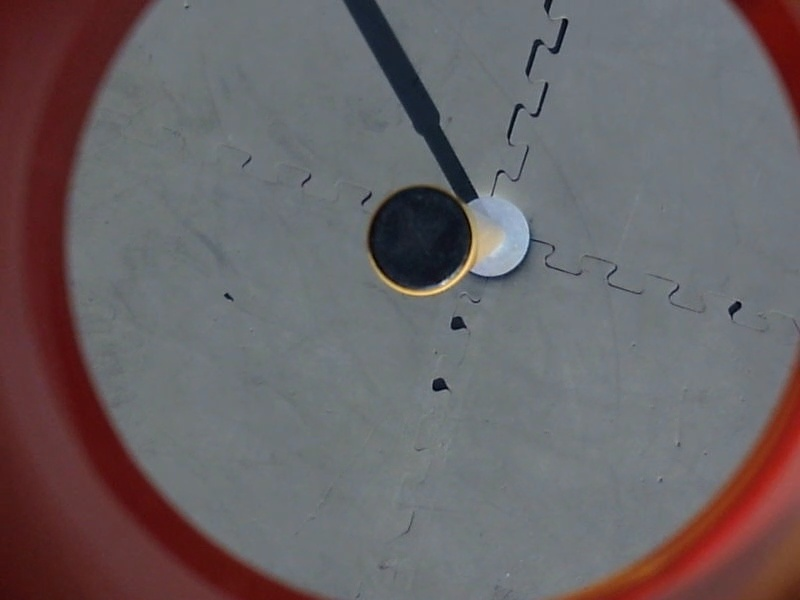tip: (361, 183, 478, 299)
